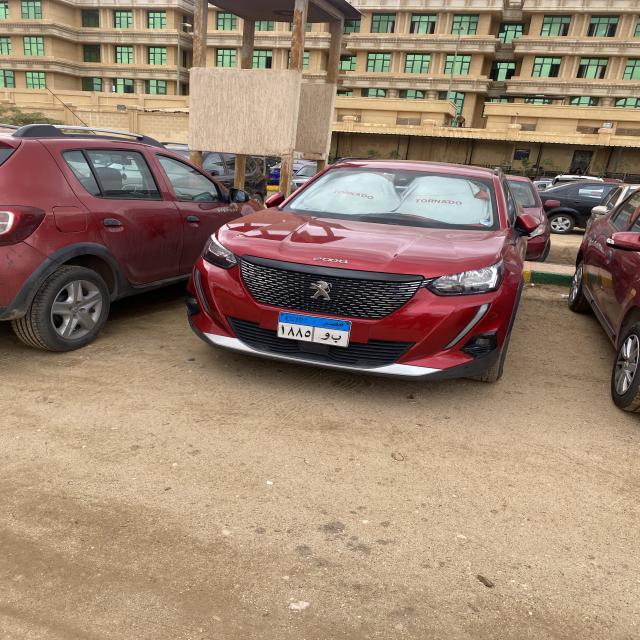License Plate: (275, 311, 354, 349)
